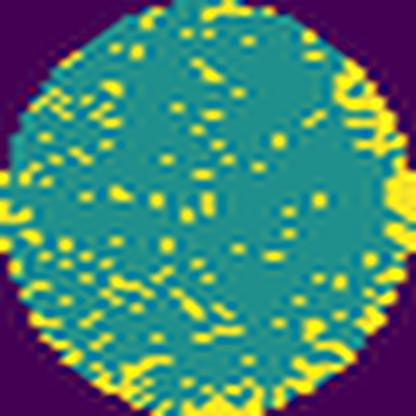Edge-Loc: (91, 344, 176, 409), (179, 378, 263, 416), (384, 166, 415, 258)
